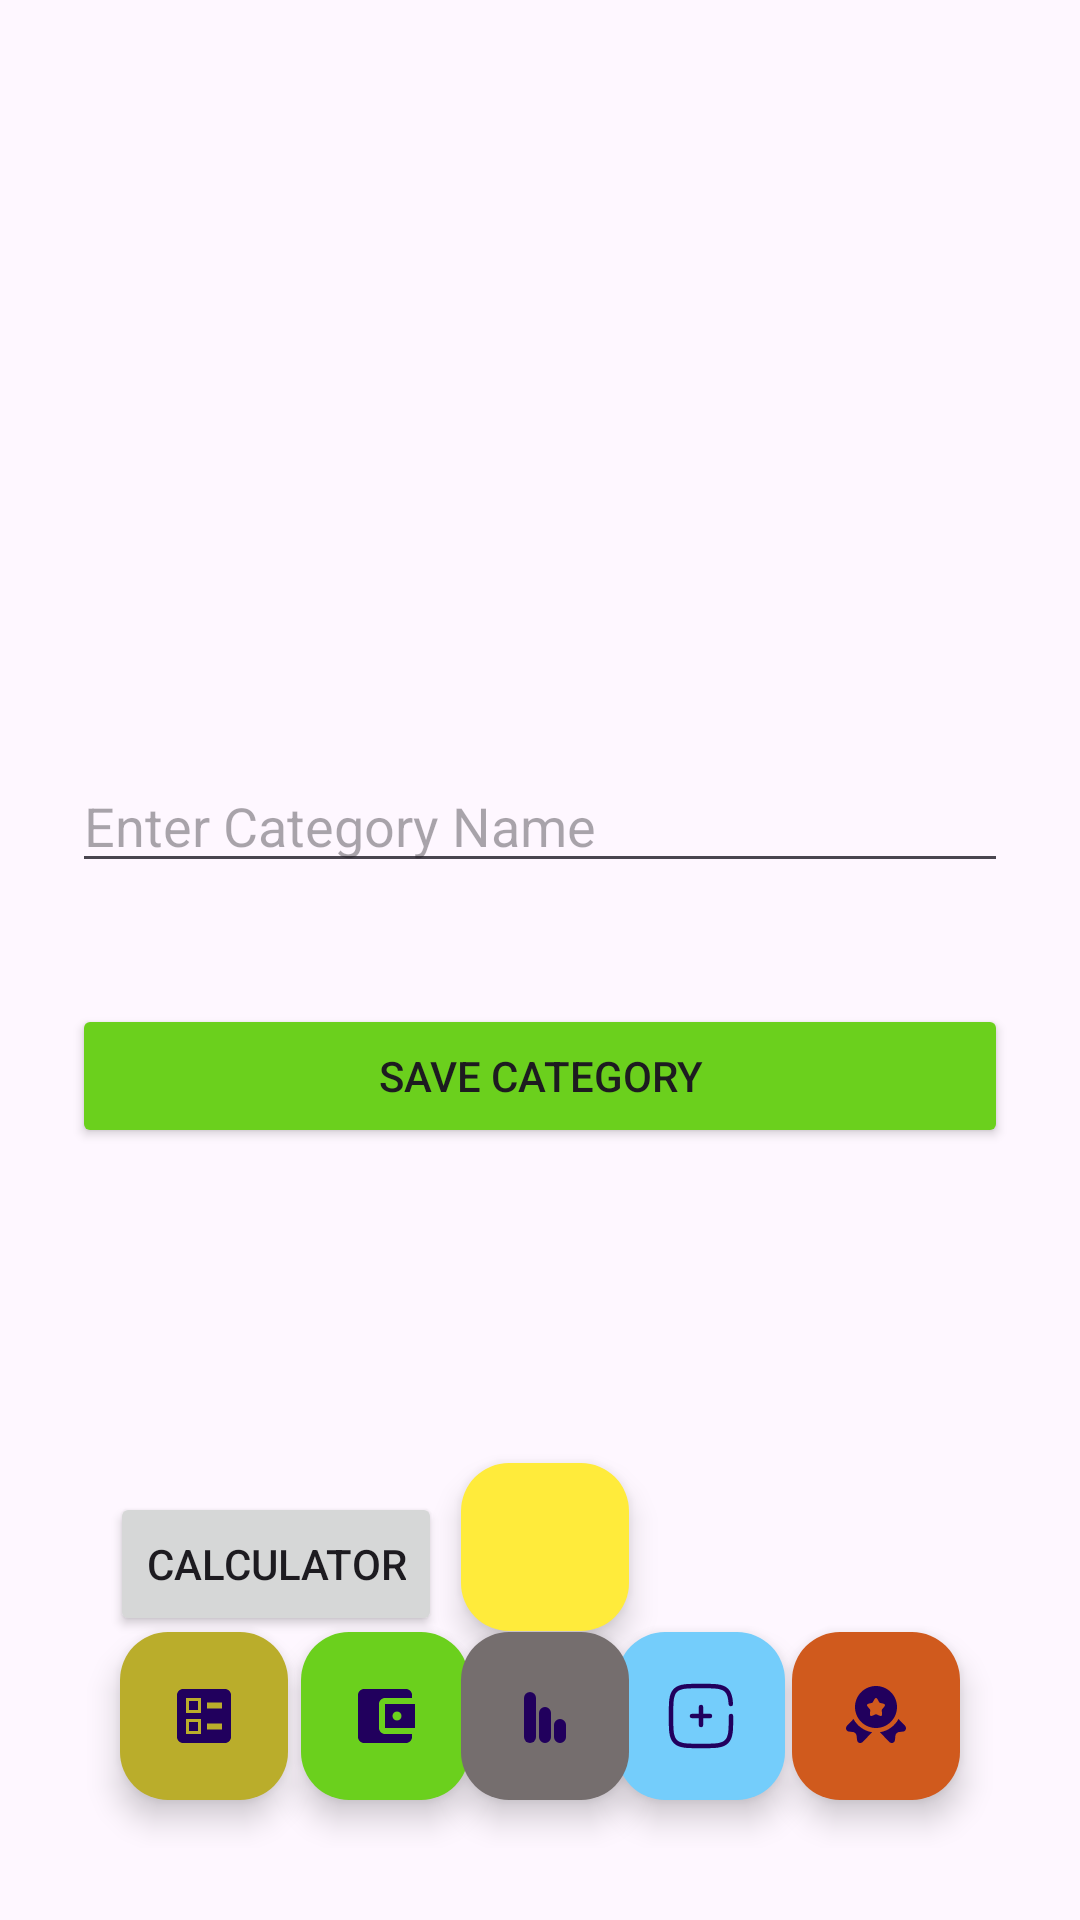

Icons on this 1080x1920 Android screen, each with the point to tap as [x,y]:
Add Category: [701,1716]
Add Expense: [385,1716]
Category summary: [545,1716]
Set Goals: [876,1716]
View Expenses: [204,1716]
